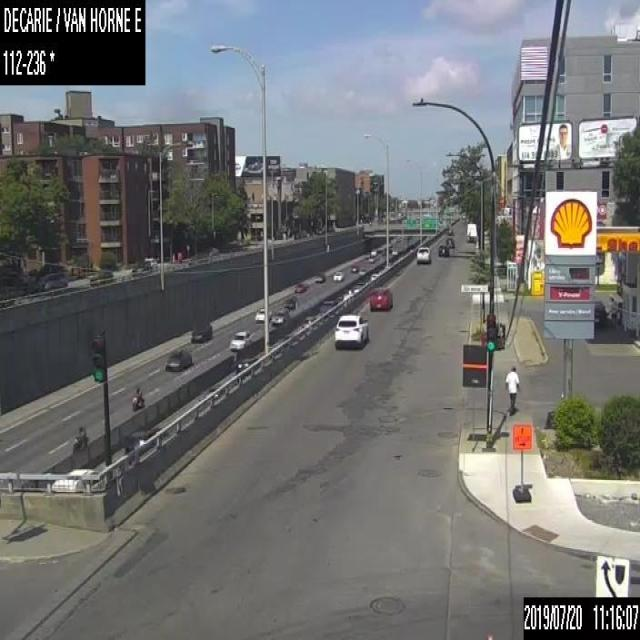construction: (510, 423, 531, 501)
pedestrian: (504, 364, 520, 413), (606, 296, 617, 329)
vehicle: (333, 312, 370, 347), (124, 423, 162, 456), (50, 467, 99, 489), (368, 285, 393, 311), (164, 347, 192, 369), (229, 328, 255, 349), (70, 426, 88, 454), (38, 272, 68, 288), (236, 351, 258, 372), (190, 322, 211, 342), (592, 300, 606, 329), (88, 266, 112, 282), (130, 386, 145, 411), (130, 260, 152, 275), (270, 306, 288, 323), (253, 307, 270, 321), (416, 245, 429, 263), (466, 222, 476, 242), (283, 295, 296, 309), (436, 243, 448, 255), (314, 272, 325, 283), (295, 283, 307, 292), (445, 236, 454, 248), (332, 271, 343, 280), (349, 262, 358, 272), (367, 254, 376, 262)
